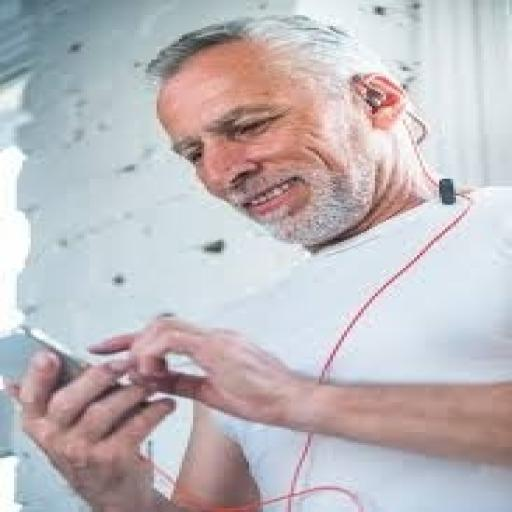listening_to_music: (6, 11, 509, 510)
